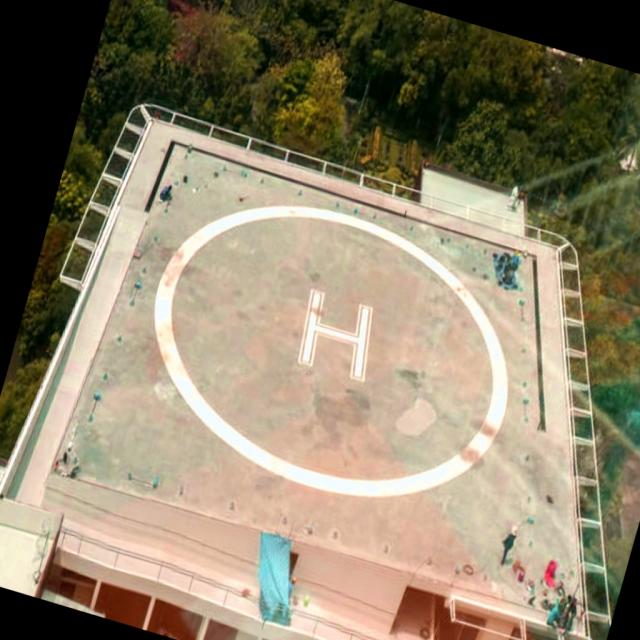helipad: (148, 200, 510, 500)
